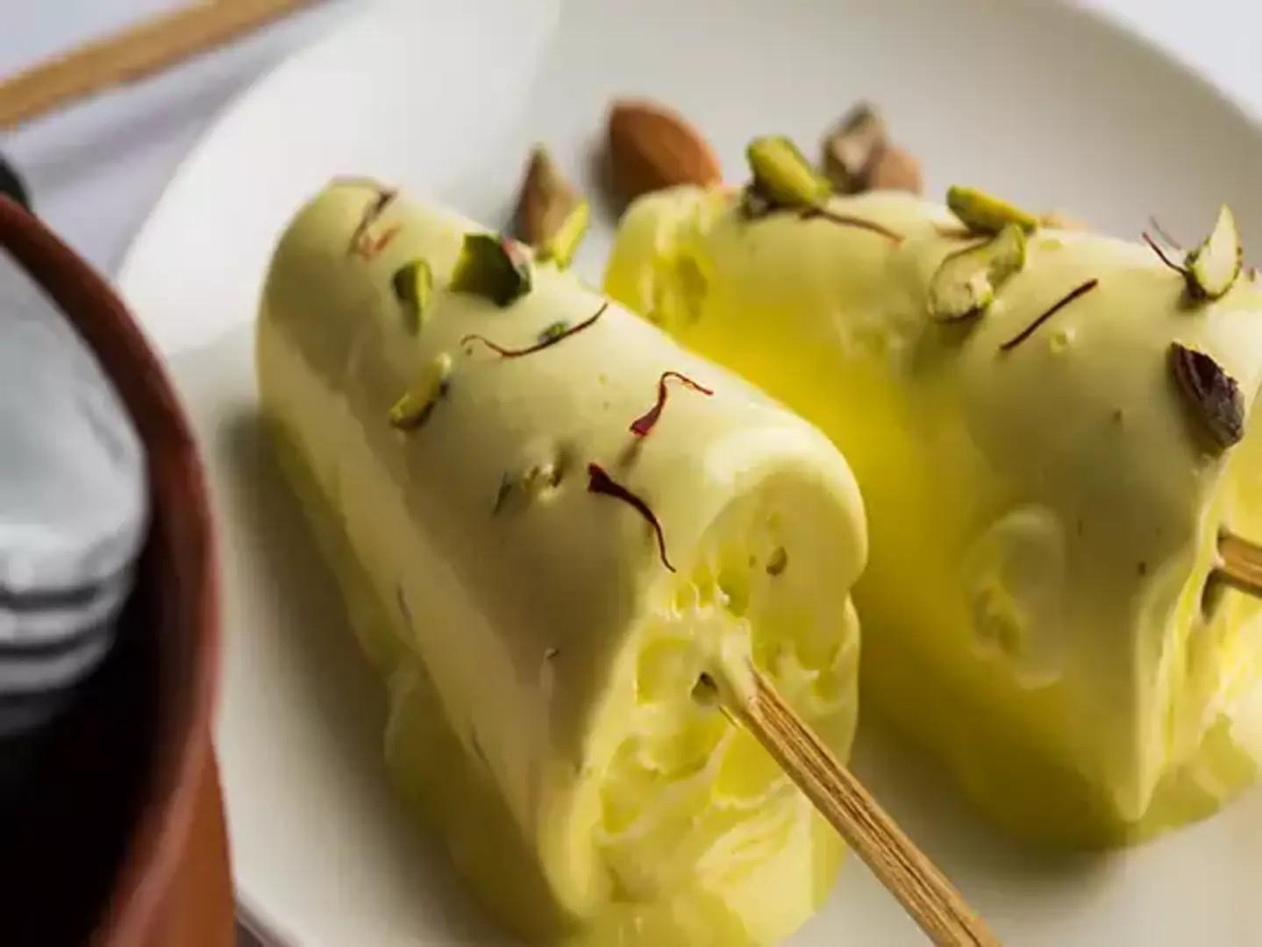Kulfi: (250, 169, 871, 927), (612, 178, 1262, 852)
